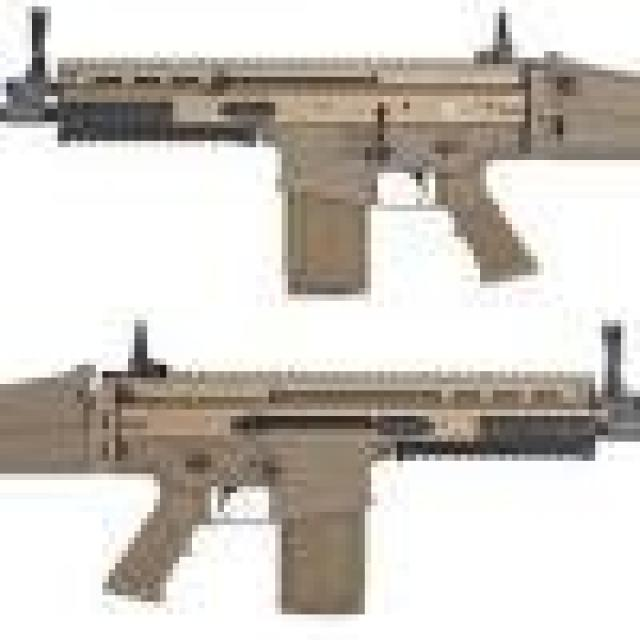Gun: (0, 311, 640, 640), (0, 0, 640, 311)
